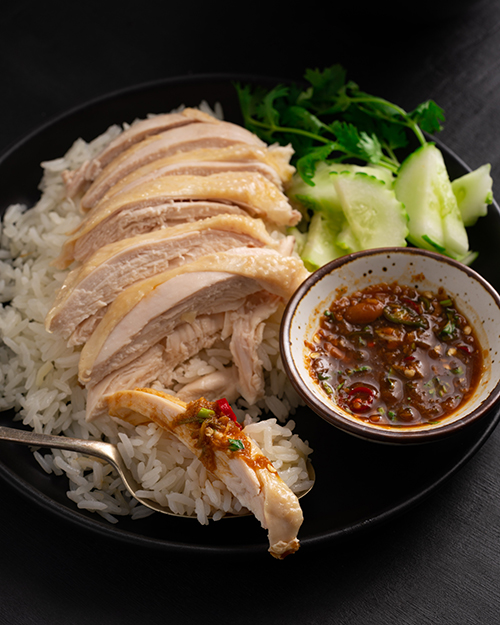Steamed Chicken Rice: (14, 80, 309, 551)
